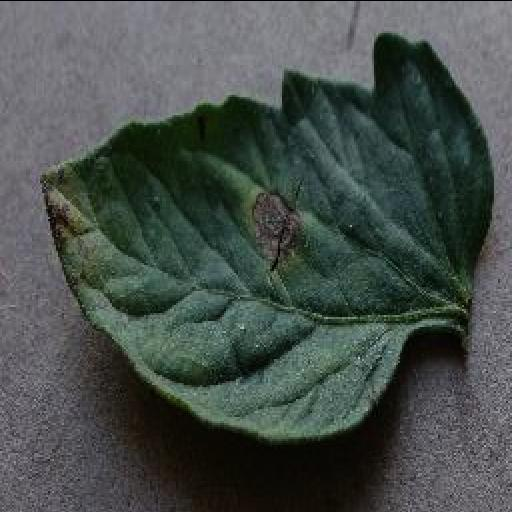disease_tomato: (34, 29, 498, 437)
